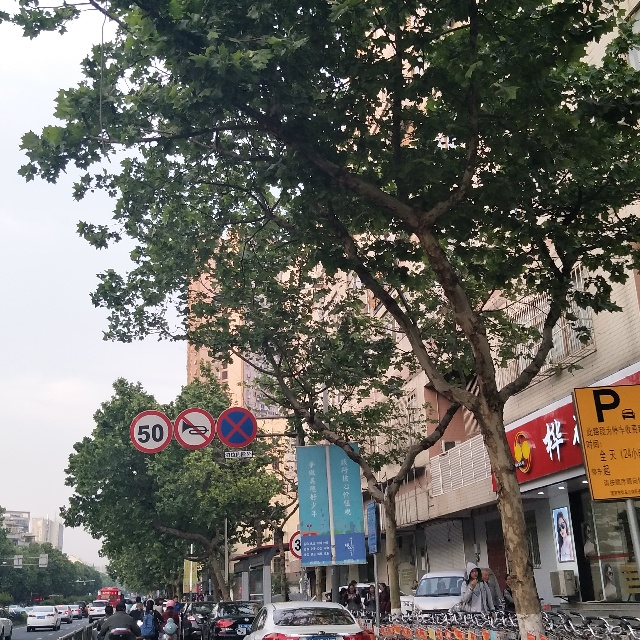nohonk: (169, 403, 215, 448)
stop: (217, 402, 258, 454)
